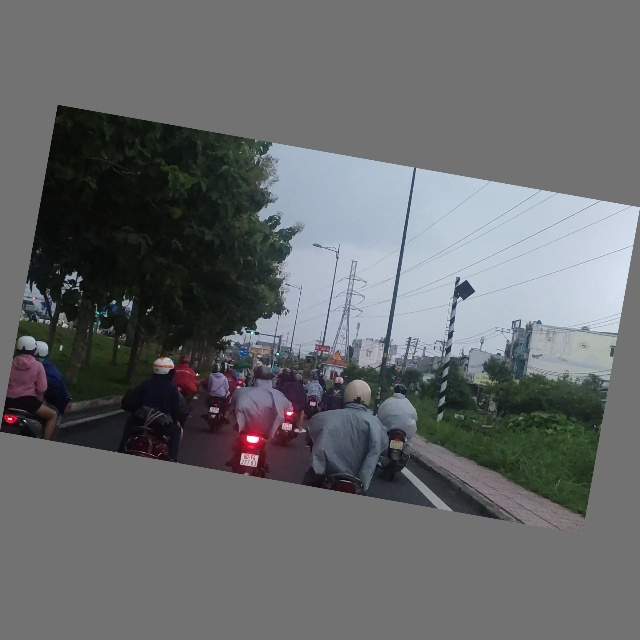W.210: (330, 350, 344, 363)
